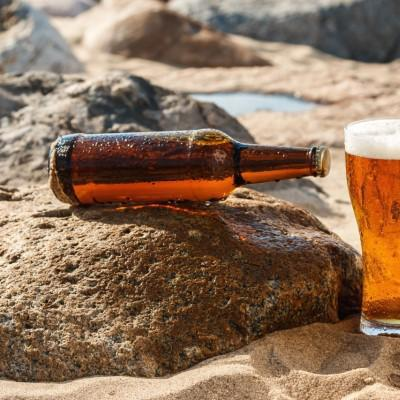beer: (40, 131, 332, 204)
